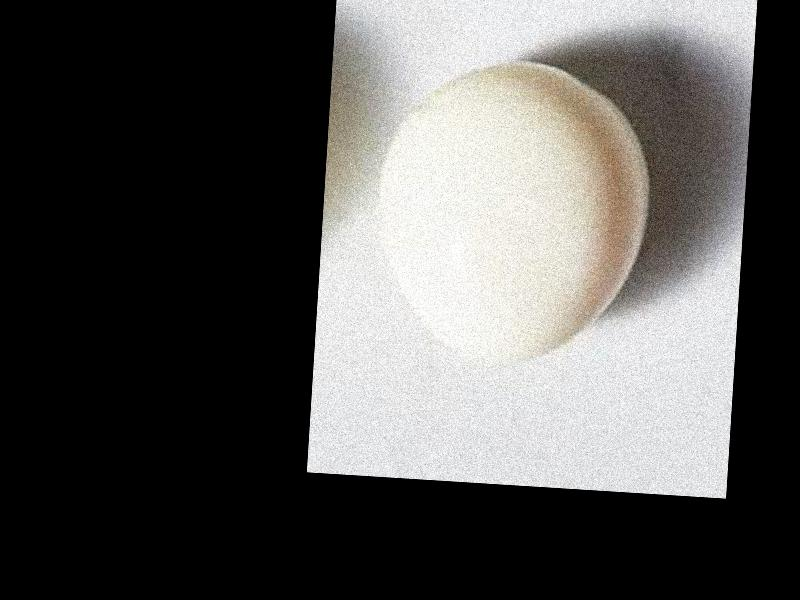Eggs: (369, 52, 656, 368)
